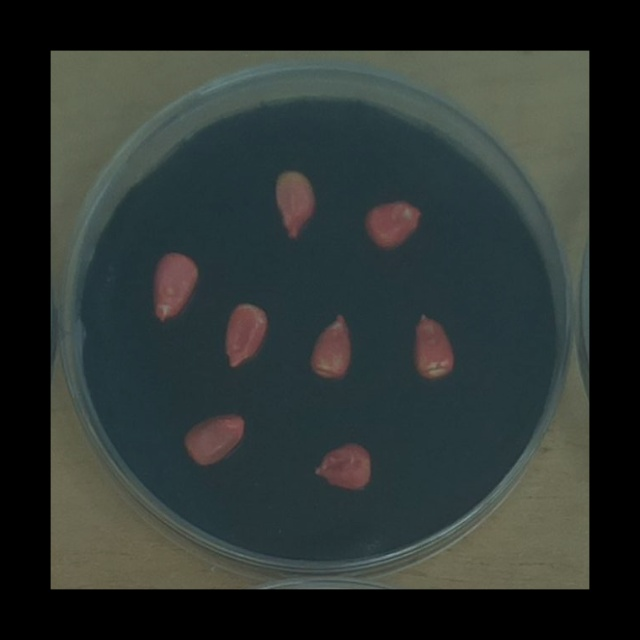Zea mays: (145, 246, 205, 326), (176, 408, 252, 471), (266, 162, 322, 244), (217, 295, 275, 373), (303, 306, 359, 386), (357, 194, 426, 253), (408, 305, 459, 384), (307, 436, 375, 494)
